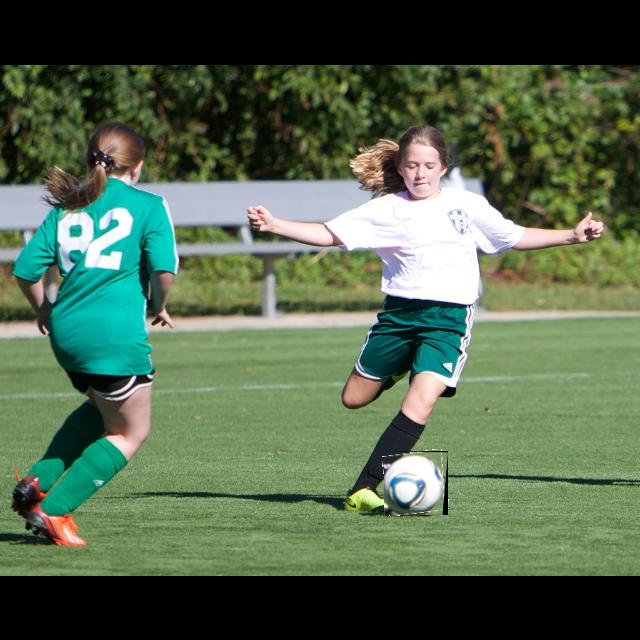Football: (384, 451, 448, 515)
